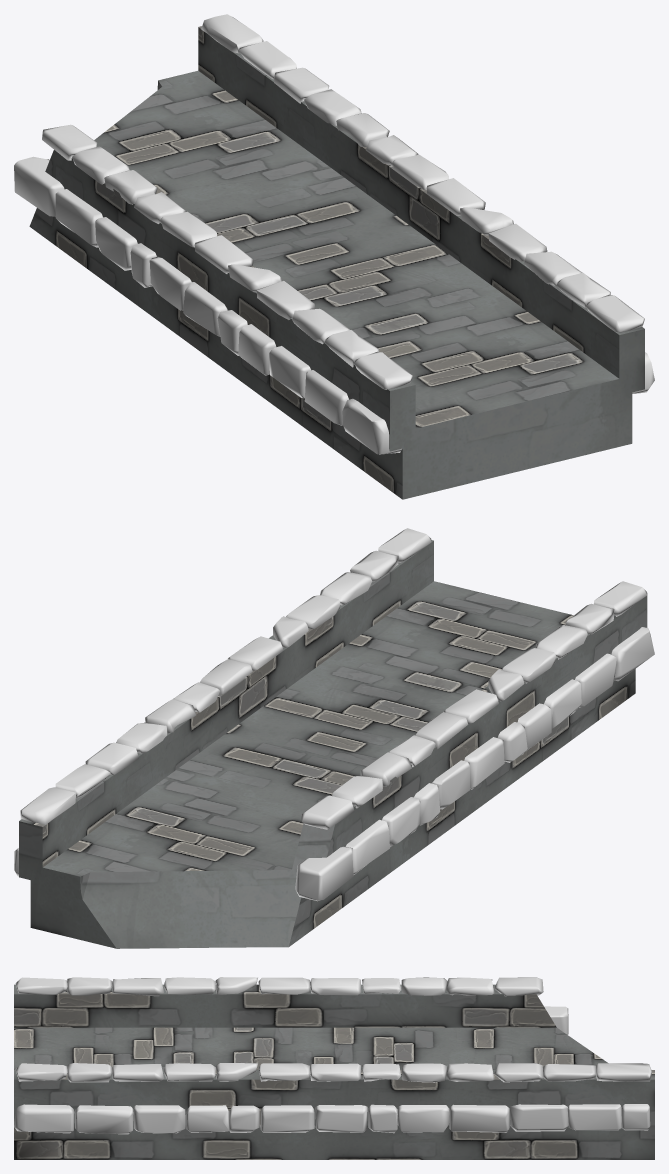
The model's file is SM_Bridge_Half_Broken_01.fbx.
The picture shows the model from 3 angles, top to bottom: view 1: azimuth 30°, elevation 25°; view 2: azimuth 150°, elevation 25°; view 3: azimuth 270°, elevation 25°; orthographic projection. The views are drawn at different scales.
Parts seen in each view (by area): view 1: Bridge_Half_Broken_01_LOD0; view 2: Bridge_Half_Broken_01_LOD0; view 3: Bridge_Half_Broken_01_LOD0.
Part boxes in pixels (<box>): Bridge_Half_Broken_01_LOD0: <box>14,14,654,499</box>; Bridge_Half_Broken_01_LOD0: <box>14,528,654,948</box>; Bridge_Half_Broken_01_LOD0: <box>14,977,654,1159</box>.
Size of what is drawn, in the model's own units: 5.48 by 2.28 by 14.11.
